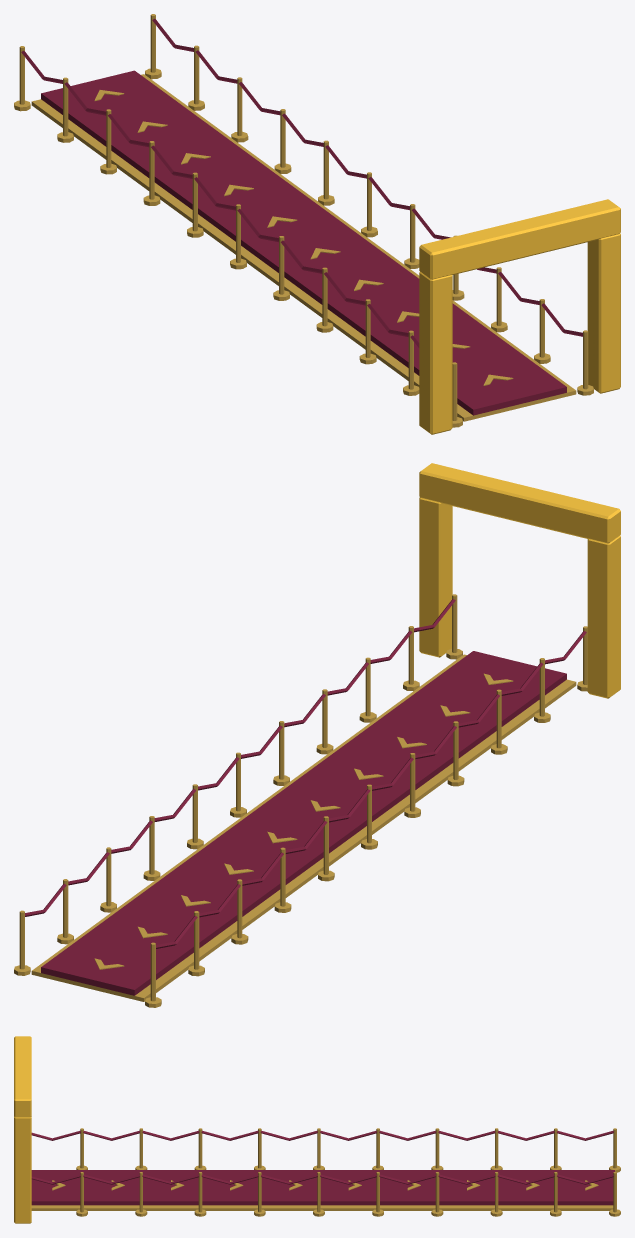
The model's file is RedCarpetConveyor.fbx.
The picture shows the model from 3 angles, top to bottom: view 1: azimuth 30°, elevation 25°; view 2: azimuth 150°, elevation 25°; view 3: azimuth 270°, elevation 25°; orthographic projection. The views are drawn at different scales.
Parts seen in each view (by area): view 1: RedCarpetConveyor, RedCarpetConveyor_Belt; view 2: RedCarpetConveyor_Belt, RedCarpetConveyor; view 3: RedCarpetConveyor_Belt, RedCarpetConveyor.
Boxes of the visible parts, box(x1,y1,x2,y2) form: RedCarpetConveyor: box(14, 14, 620, 434); RedCarpetConveyor_Belt: box(41, 70, 566, 415); RedCarpetConveyor_Belt: box(41, 651, 566, 995); RedCarpetConveyor: box(14, 463, 620, 1007); RedCarpetConveyor_Belt: box(31, 1170, 614, 1205); RedCarpetConveyor: box(14, 1036, 620, 1223).
Size of the model in its own units: 10.2 by 9.3 by 41.
Materials: 1 (1 with a texture image).
